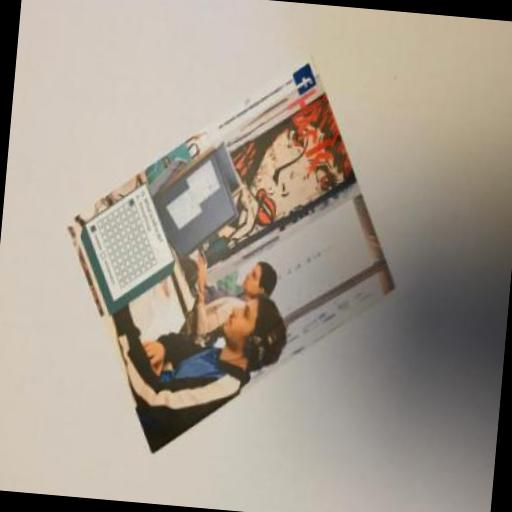paper: (44, 35, 414, 473)
